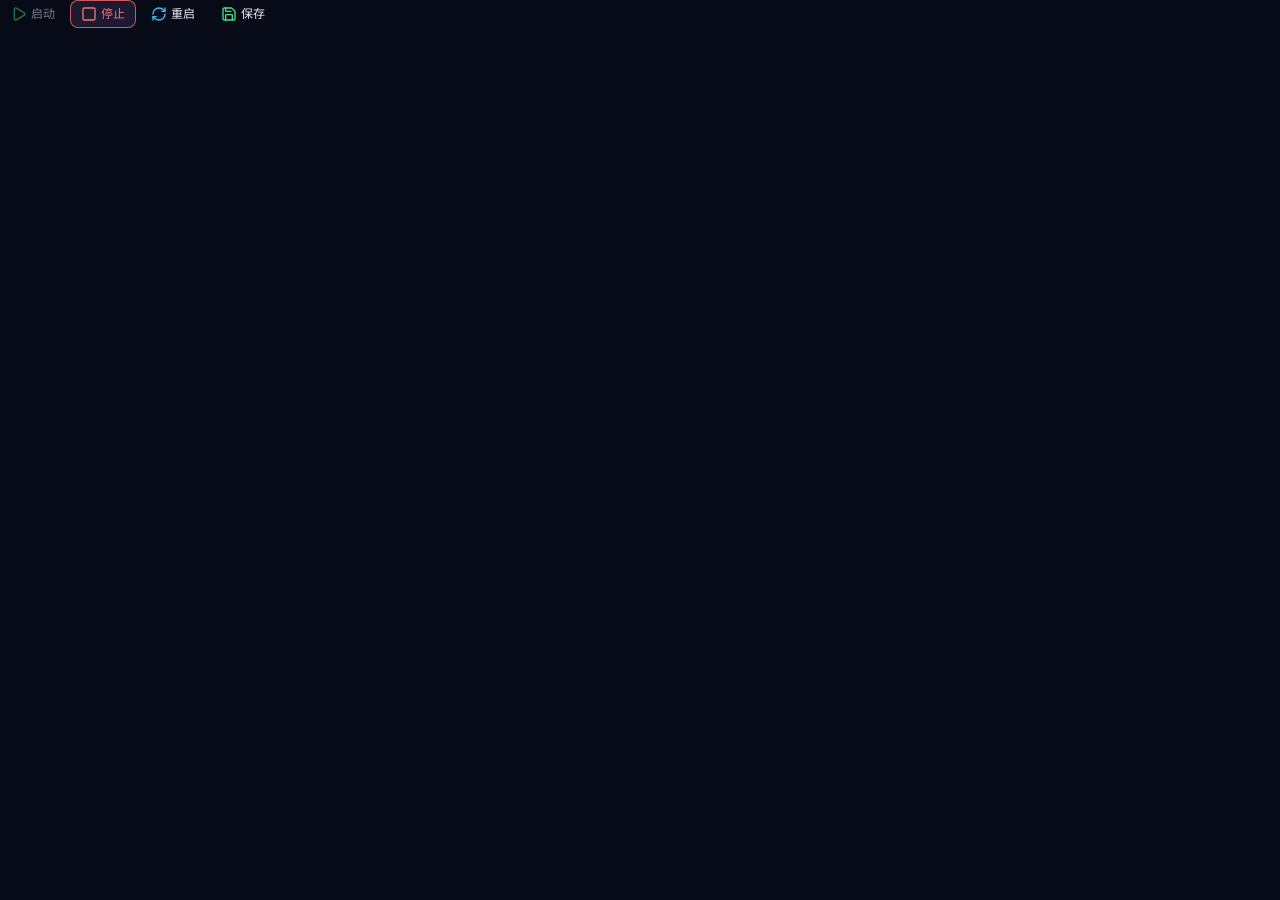
it: InstanceControls 启动确认（EULA 前置条件前移） › 重启仍需确认（高危动作保留二次确认）
Click the button "重启" at point(173, 14), box [140,0,206,28]
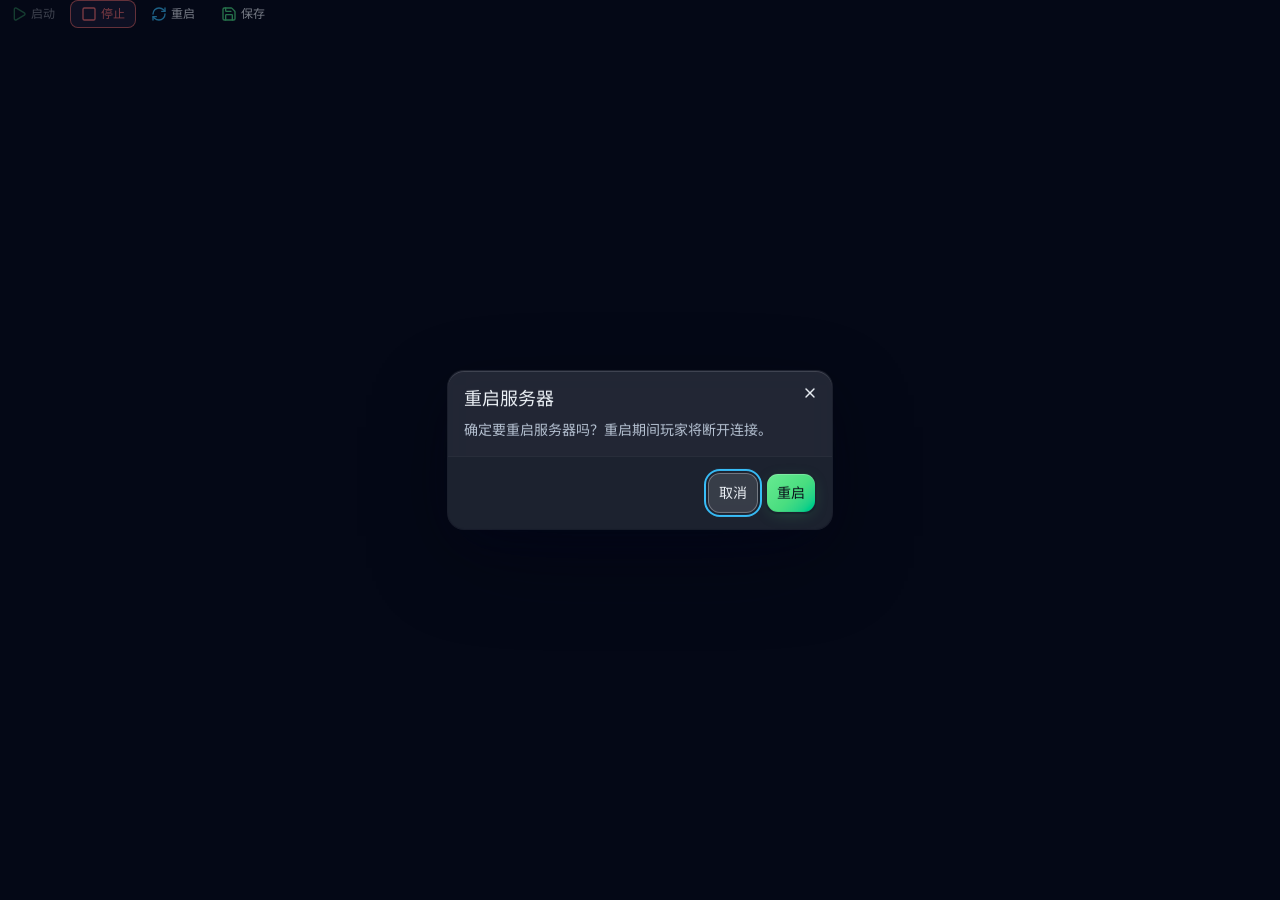
Check: the heading "重启服务器" is shown, box [464,389,554,409]
